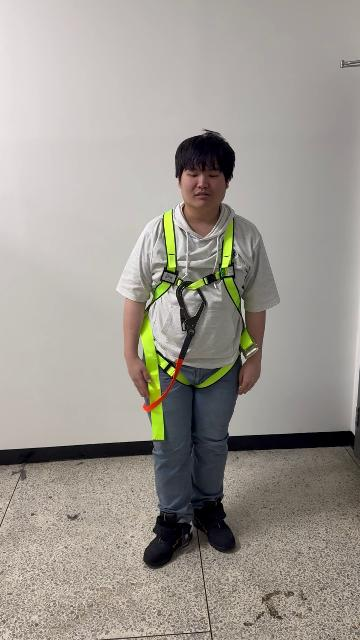helmet_not_worn: (178, 136, 235, 198)
shoe_worn: (143, 512, 193, 567), (193, 499, 235, 552)
vest_worn: (136, 210, 257, 427)
